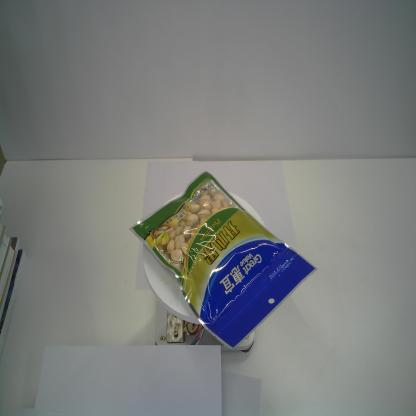Dried Fruit: (128, 170, 320, 352)
